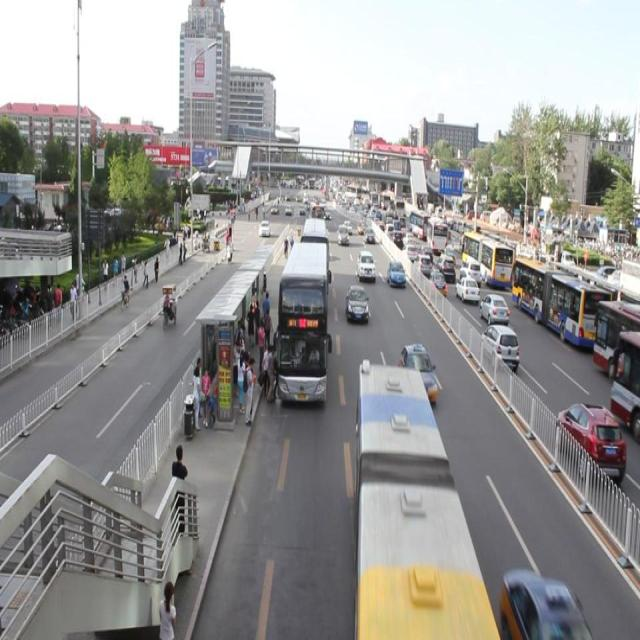car: (499, 569, 589, 640), (344, 283, 368, 325), (356, 250, 374, 281), (386, 260, 404, 286), (336, 224, 348, 247), (364, 227, 375, 244), (356, 221, 366, 234)
van: (350, 362, 497, 640), (277, 239, 327, 402), (300, 217, 327, 284)
